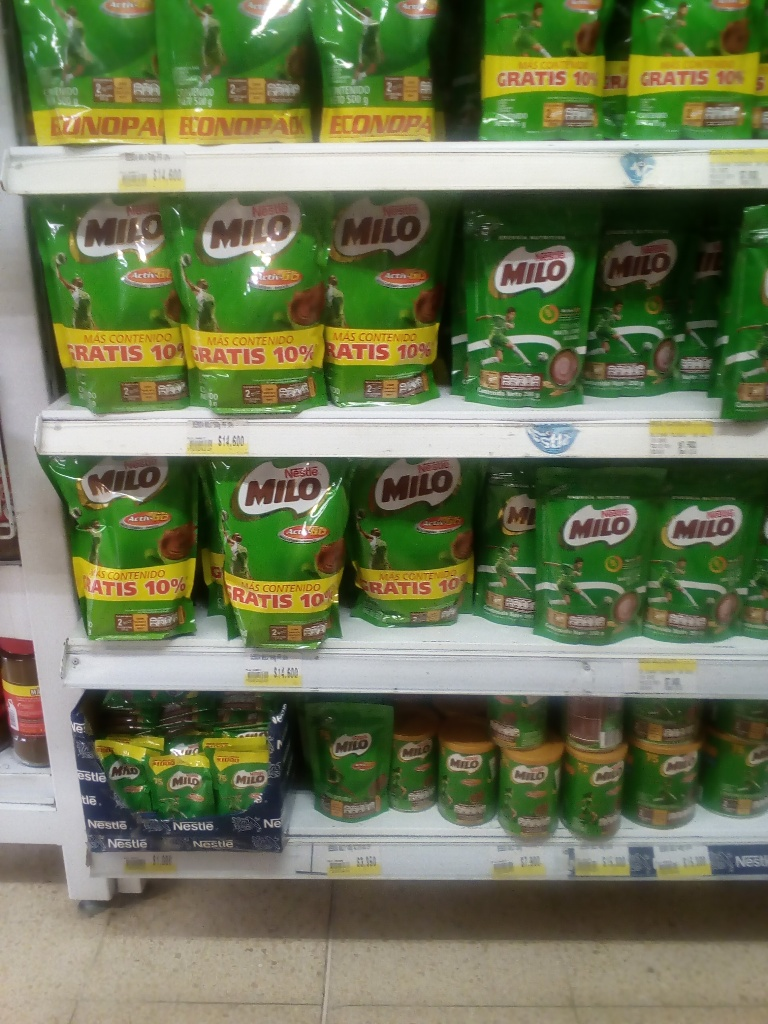COL0170203LAT20000: (387, 711, 441, 810)
COL0170203LAT40000: (627, 733, 702, 833)
